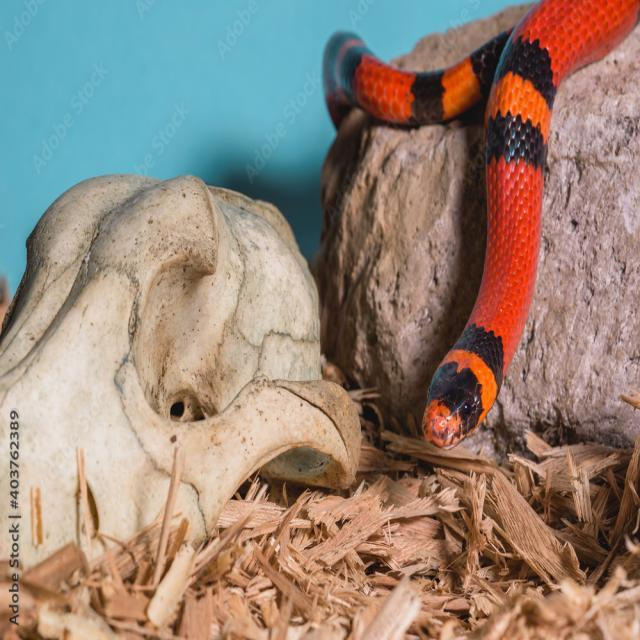Snake: (296, 0, 640, 468)
